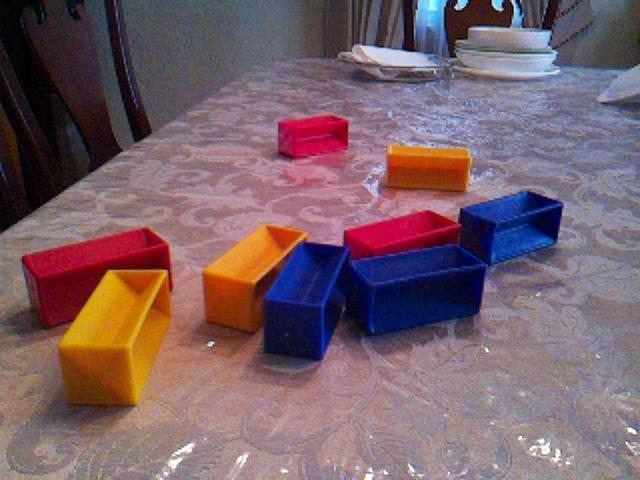blue: (345, 242, 488, 337), (262, 239, 351, 361), (458, 188, 565, 267)
red: (21, 225, 175, 330), (343, 208, 463, 260), (276, 113, 351, 160)
yellow: (57, 269, 173, 407), (201, 222, 309, 334), (383, 142, 473, 193)
